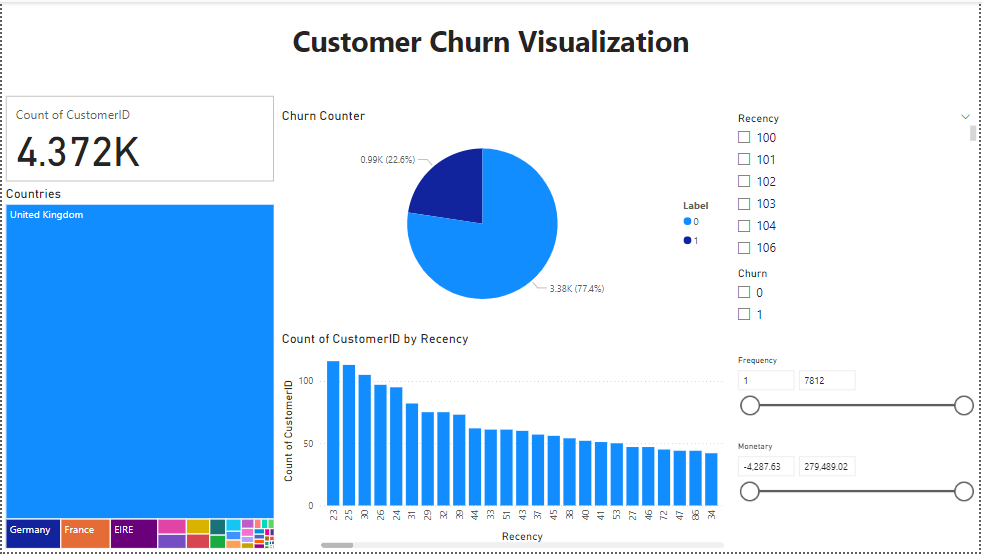

The page's visual inventory and layout, read from the dashboard file:
{"tool":"powerbi","page":{"name":"Page 1","canvas":[1280,720],"ordinal":0},"visuals":[{"type":"columnChart","fields":{"Category":["Online Retail.Recency"],"Y":["CountNonNull(Online Retail.CustomerID)"]},"box":[361.4,430.6,589,289.4],"z":0},{"type":"pieChart","title":"Churn Counter","fields":{"Category":["Online Retail.Churn"],"Y":["CountNonNull(Online Retail.CustomerID)"]},"box":[361,138.4,589.3,284],"z":1000},{"type":"slicer","fields":{"Values":["Online Retail.Recency"]},"box":[950.4,138.4,329.6,192.6],"z":2000},{"type":"slicer","fields":{"Values":["Online Retail.Churn"]},"box":[950.4,331.1,329.6,127],"z":3000},{"type":"slicer","fields":{"Values":["Online Retail.Frequency"]},"box":[950.4,458.1,329.6,102.7],"z":4000},{"type":"slicer","fields":{"Values":["Online Retail.Monetary"]},"box":[949.9,570.6,330.1,149.2],"z":5000},{"type":"cardVisual","fields":{"Data":["CountNonNull(Online Retail.CustomerID)"]},"box":[0,138.4,361,102.7],"z":6000},{"type":"treemap","title":" Countries","fields":{"Group":["original database.Country"],"Values":["CountNonNull(original database.Country)"]},"box":[0,240.5,361.4,479.5],"z":7000}]}

Visuals, with their boxes in screenshot pixels (x1, y1, x2, y2), scaled from the page's 1280x720 canvas onto the 982x557 screenshot:
columnChart - Online Retail.Recency x CountNonNull(Online Retail.CustomerID): <box>277,333,729,556</box>
"Churn Counter" pieChart: <box>277,107,729,327</box>
slicer - Online Retail.Recency: <box>729,107,981,256</box>
slicer - Online Retail.Churn: <box>729,256,981,354</box>
slicer - Online Retail.Frequency: <box>729,354,981,434</box>
slicer - Online Retail.Monetary: <box>729,441,981,556</box>
cardVisual - CountNonNull(Online Retail.CustomerID): <box>0,107,277,187</box>
" Countries" treemap: <box>0,186,277,556</box>
